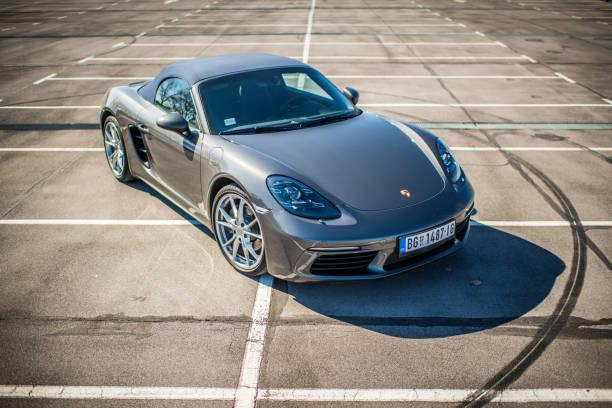porsche: (394, 187, 416, 202)
